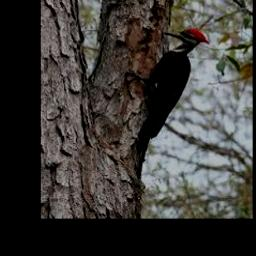Woodpecker: (125, 28, 210, 178)
